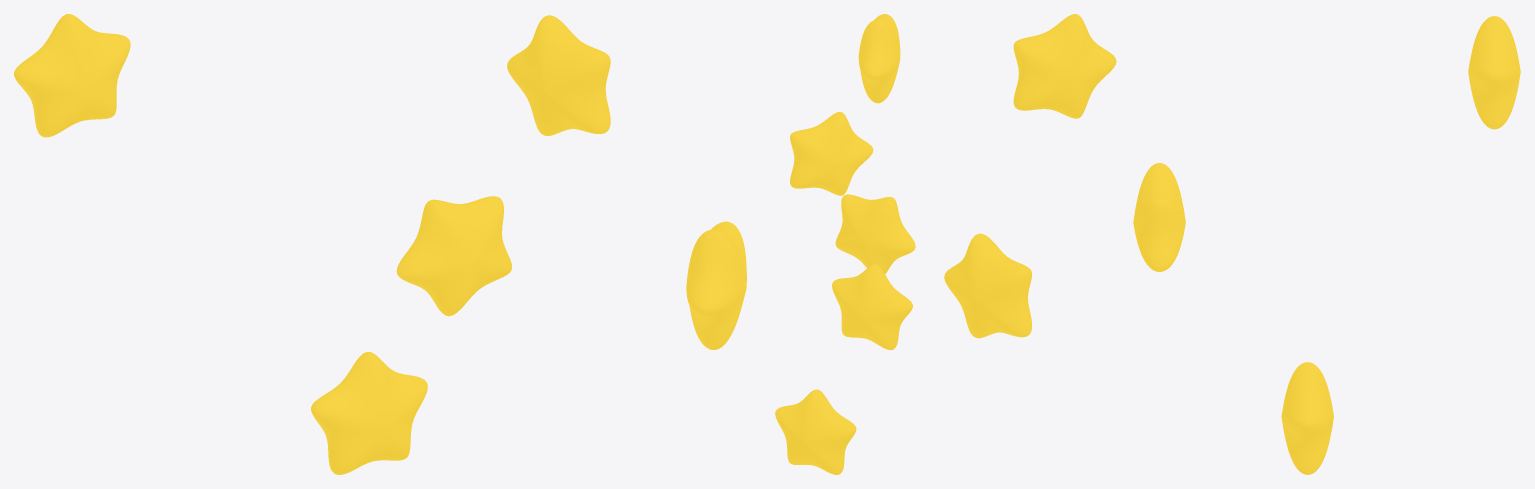
The model's file is stars.glb.
The picture shows the model from 3 angles, left to right: view 1: azimuth 30°, elevation 25°; view 2: azimuth 150°, elevation 25°; view 3: azimuth 270°, elevation 25°; orthographic projection. The views are drawn at different scales.
Visible parts, largest first — view 1: star.003, star, star.001, star.002, star.004; view 2: star.004, star, star.003, star.001, star.002; view 3: star.002, star.004, star, star.003, star.001.
Boxes of the visible parts, x1=… form: star.003: x1=311, y1=352, x2=427, y2=474; star: x1=14, y1=14, x2=130, y2=137; star.001: x1=396, y1=196, x2=511, y2=316; star.002: x1=507, y1=15, x2=610, y2=135; star.004: x1=686, y1=221, x2=746, y2=349; star.004: x1=790, y1=112, x2=873, y2=195; star: x1=832, y1=264, x2=912, y2=350; star.003: x1=775, y1=389, x2=856, y2=474; star.001: x1=835, y1=194, x2=915, y2=273; star.002: x1=858, y1=14, x2=900, y2=103; star.002: x1=1013, y1=14, x2=1116, y2=118; star.004: x1=944, y1=233, x2=1031, y2=338; star: x1=1468, y1=16, x2=1520, y2=129; star.003: x1=1281, y1=362, x2=1333, y2=474; star.001: x1=1133, y1=163, x2=1185, y2=271.
Size of the model in its own units: 5.81 by 6.65 by 7.47.
